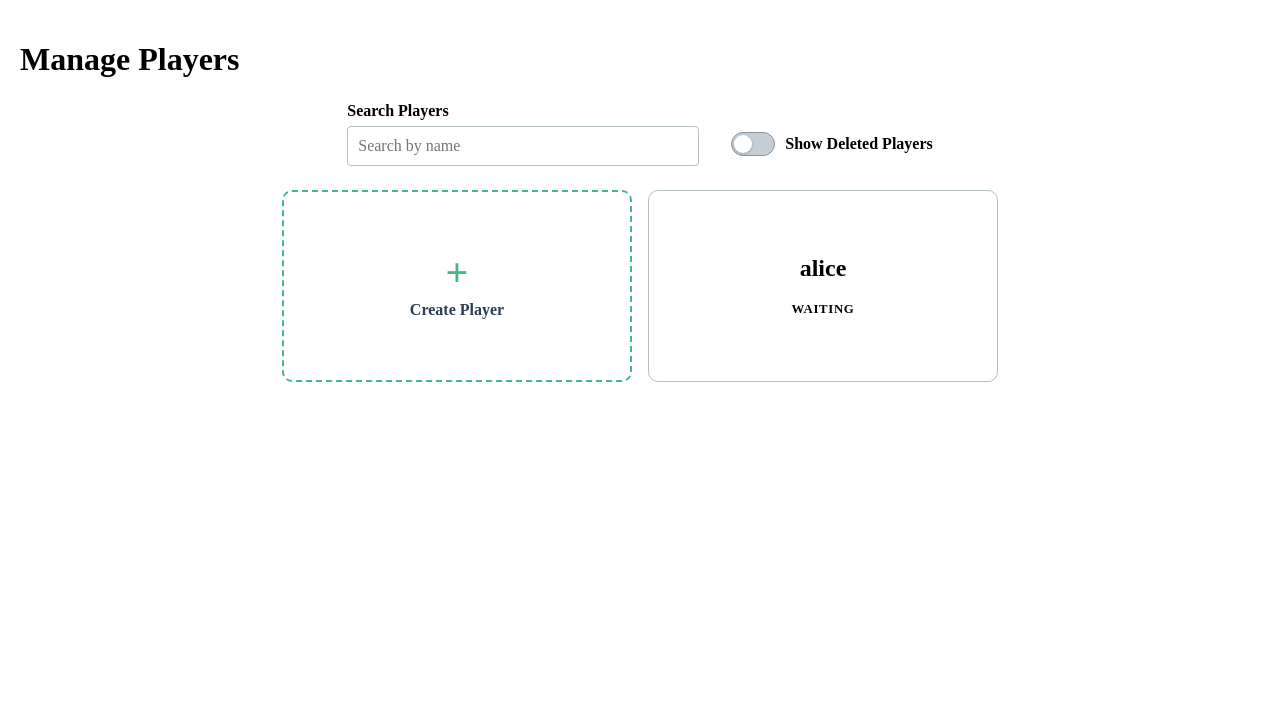
Test: ManagePlayers › edits the selected player in the shared modal
The image size is (1280, 720).
Click the button "alice" at (823, 269), box [800,255,846,282]
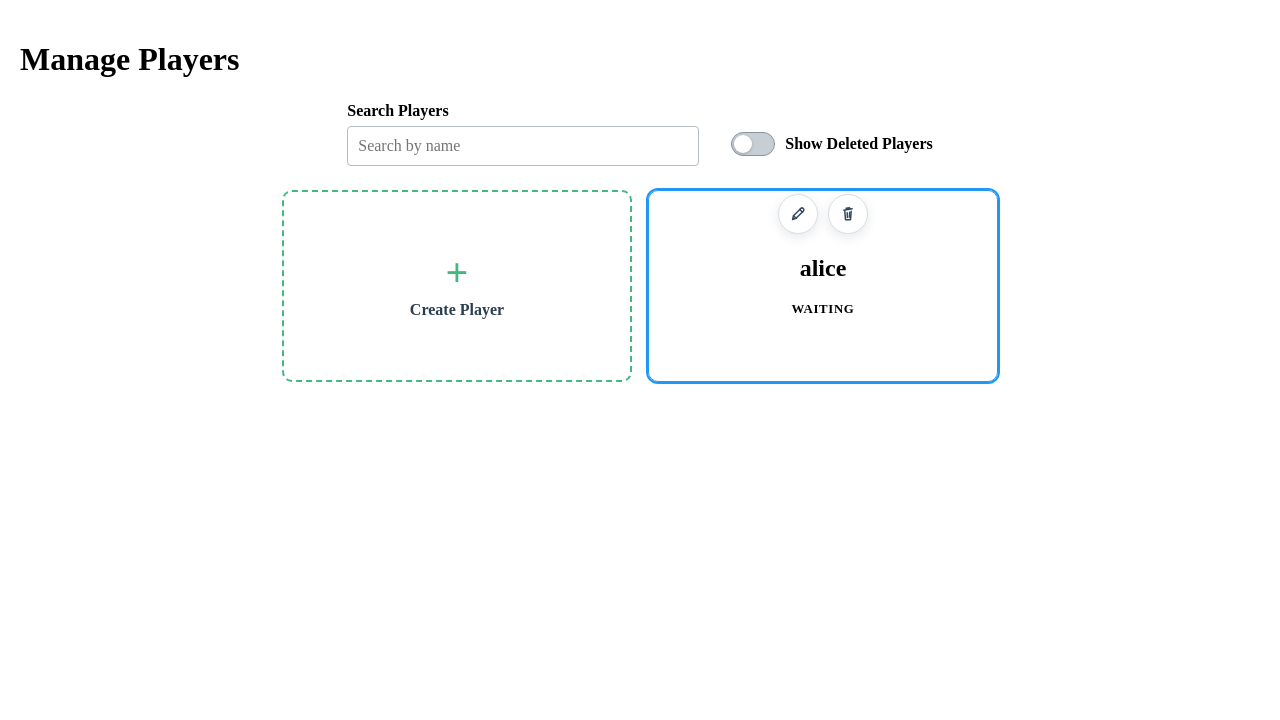
Click the button named "Edit alice" at (798, 214), box [778,194,818,234]
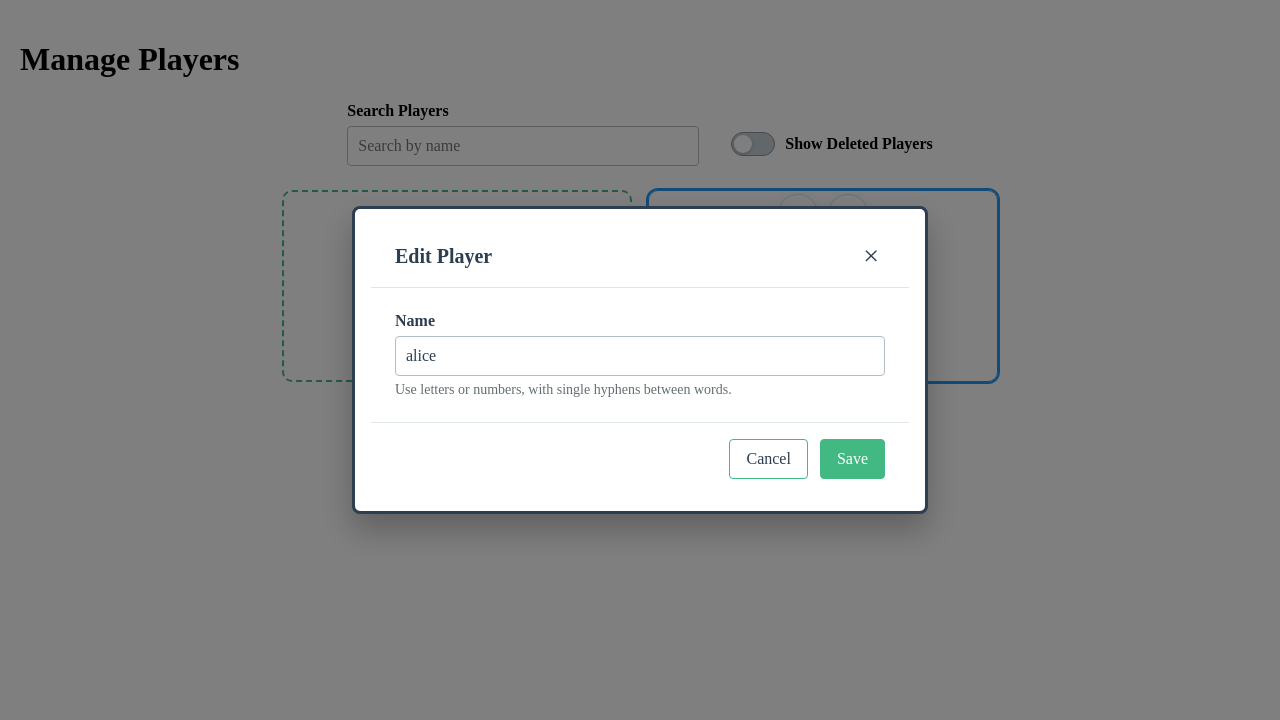
expect the field labelled "Name" holds "alice": met
Replace the text in the field labelled "Name" with "Alicia" at (640, 356), box [395,336,885,376]
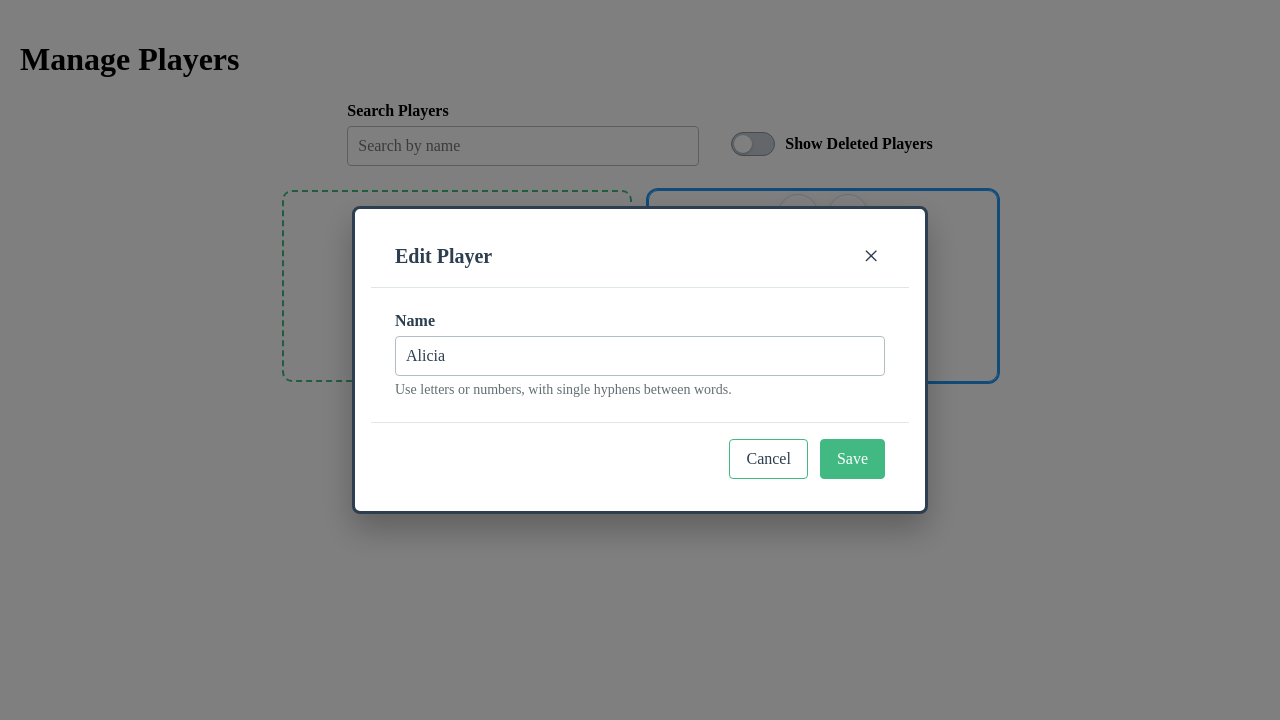
Submit the form, box [395,312,885,398]
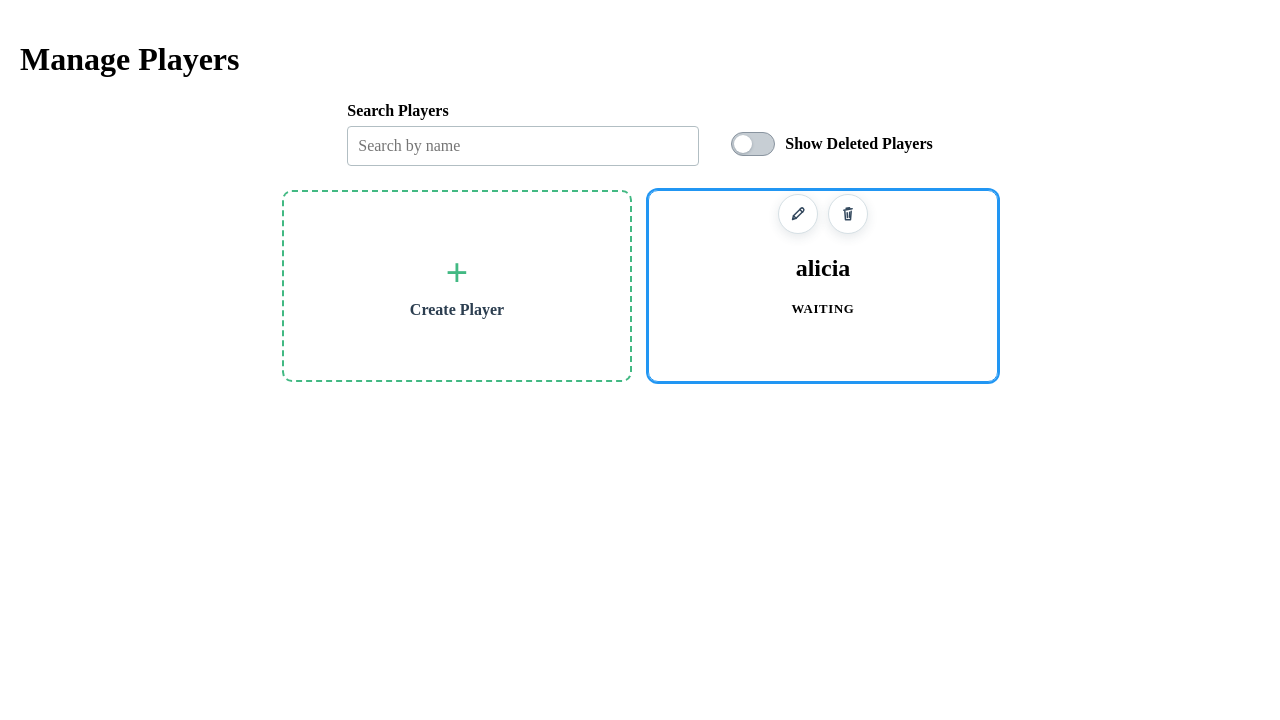
expect the element showing "alicia WAITING" is shown: met, box [648,190,998,382]
